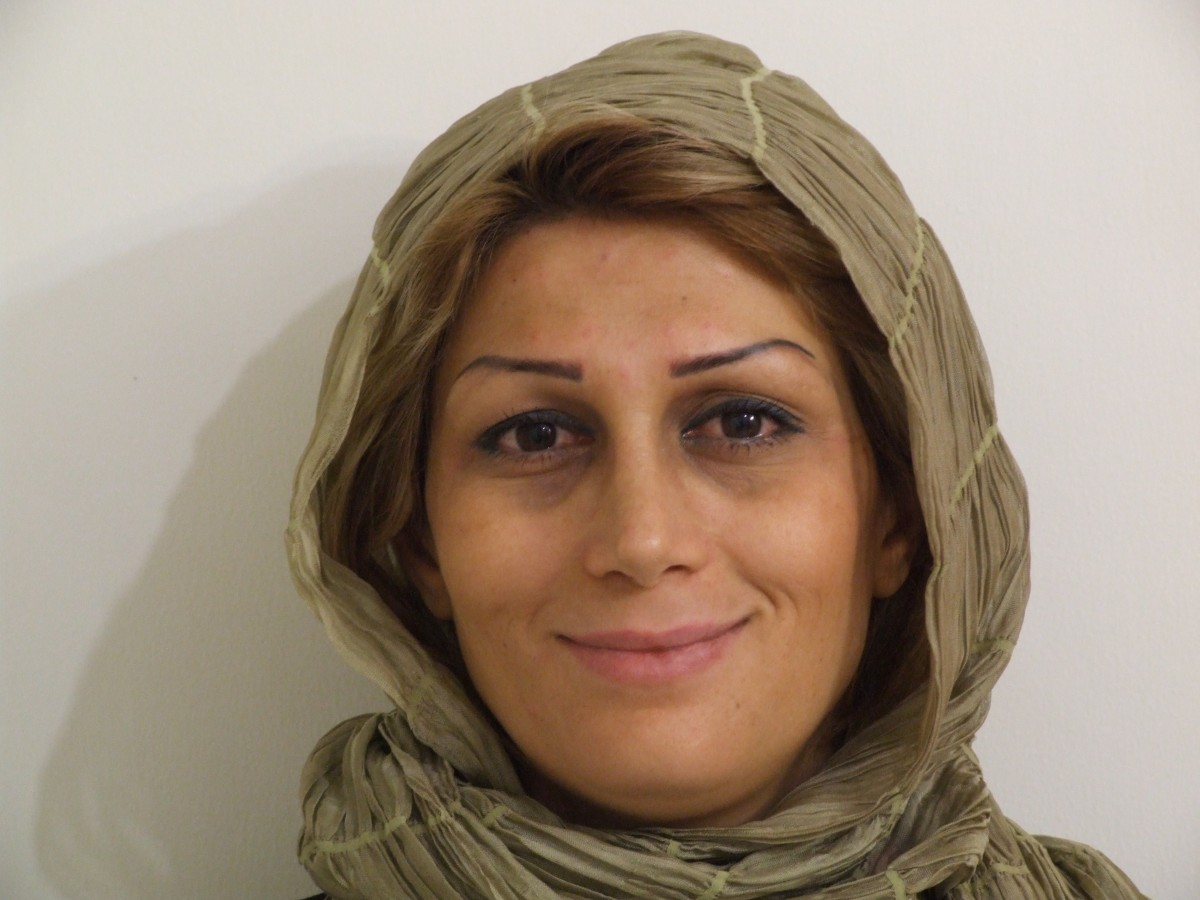neo: (729, 695, 753, 719), (673, 287, 695, 309), (497, 636, 518, 659)
occhiaia: (676, 441, 821, 519), (465, 455, 606, 531)
